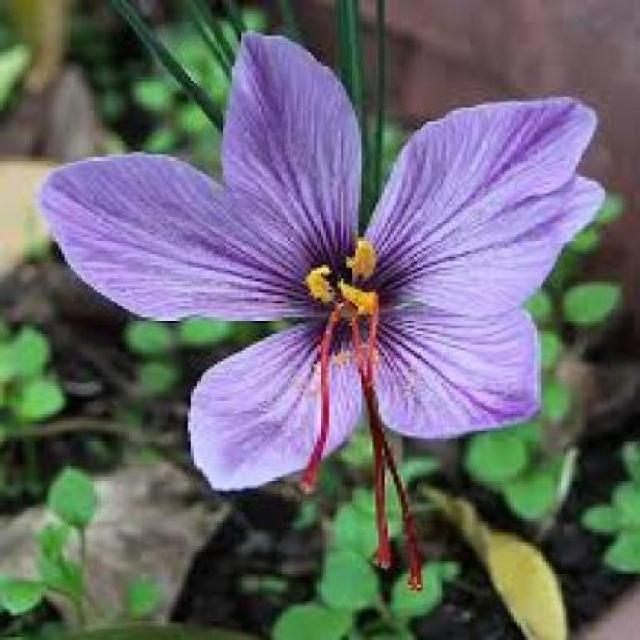Flower: (32, 29, 608, 494)
stigma: (346, 294, 417, 596), (303, 264, 342, 491)
